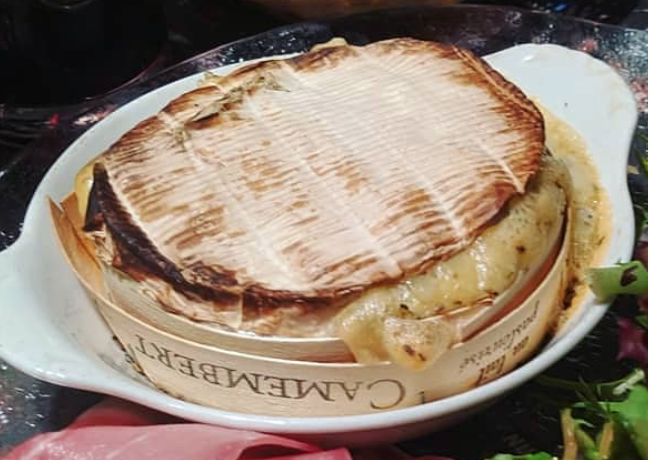camembert: (75, 36, 579, 361)
